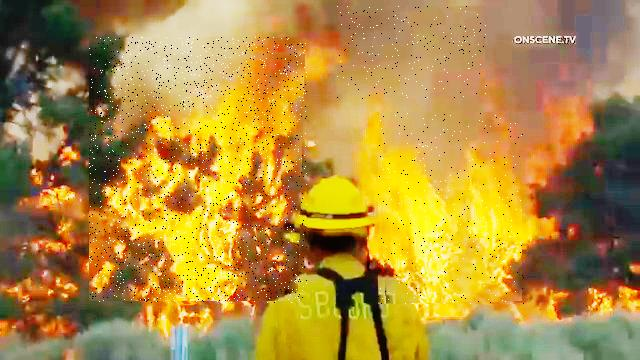fire: (90, 38, 308, 304), (379, 112, 525, 304)
smoke: (338, 6, 488, 99)
